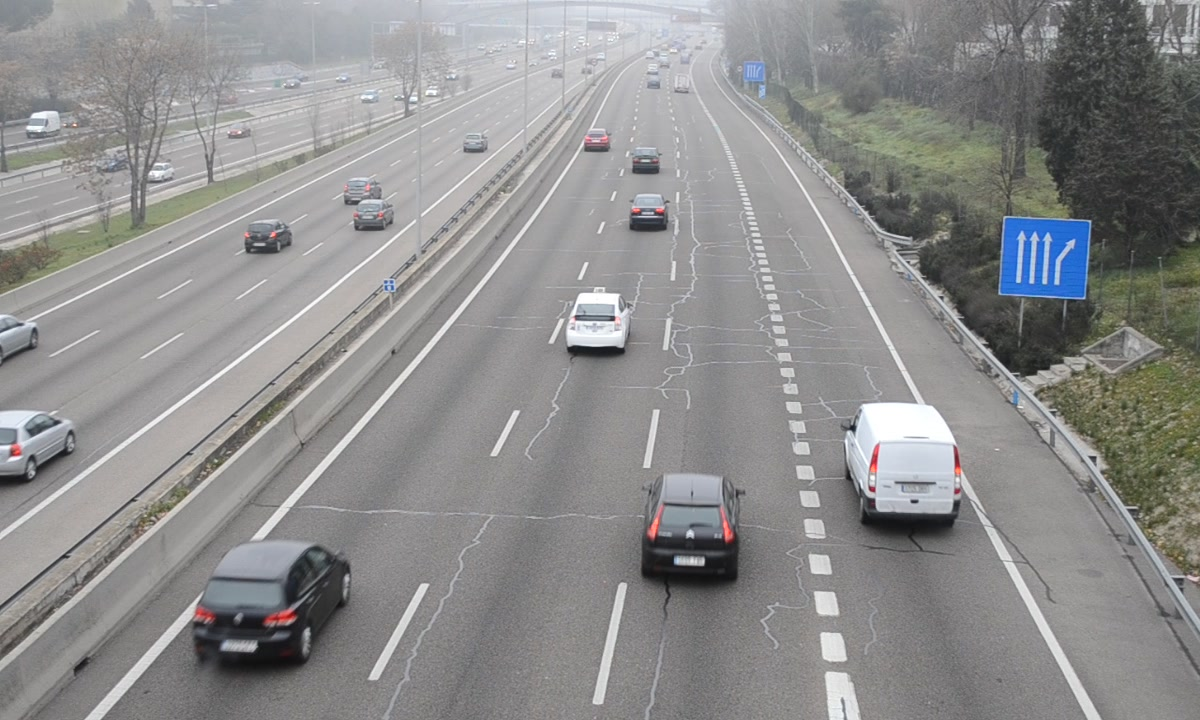car: (193, 540, 351, 667), (642, 474, 737, 574), (566, 291, 631, 348), (628, 192, 668, 227), (631, 145, 660, 173), (582, 127, 612, 152)
van: (848, 402, 962, 527)
